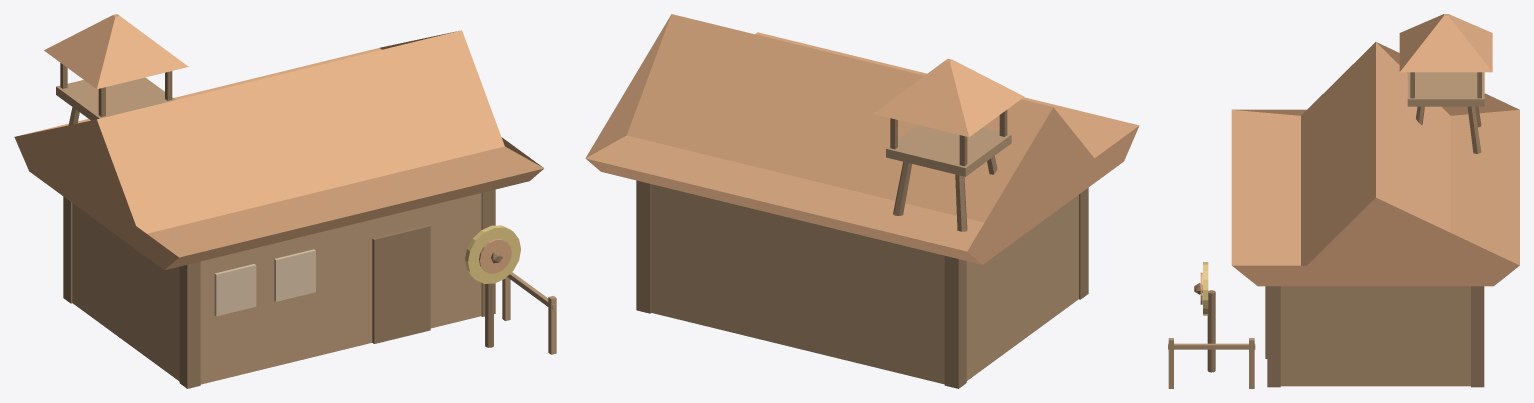
File: barracks.glb
The picture shows the model from 3 angles, left to right: view 1: azimuth 30°, elevation 25°; view 2: azimuth 150°, elevation 25°; view 3: azimuth 270°, elevation 25°; orthographic projection. The views are drawn at different scales.
Parts seen in each view (by area): view 1: roof, body, door, troof, tplatform, corner_-1_1, window_2, window_1, target, corner_-1_-1, target_mid, corner_1_1 (+2 smaller); view 2: roof, body, troof, tplatform, corner_-1_-1, corner_1_-1, corner_-1_1, tleg_-1_-1, tleg_1_-1; view 3: roof, body, troof, tplatform, corner_1_1, corner_1_-1, target_post, yard_rail, tleg_1_-1, target.
Part boxes in pixels (bbox=[...]): roof: bbox=[14, 30, 543, 270]; body: bbox=[72, 193, 481, 384]; door: bbox=[372, 225, 430, 343]; troof: bbox=[44, 14, 188, 89]; tplatform: bbox=[56, 77, 175, 120]; corner_-1_1: bbox=[179, 261, 200, 388]; window_2: bbox=[214, 264, 256, 316]; window_1: bbox=[274, 249, 315, 301]; target: bbox=[465, 225, 520, 283]; corner_-1_-1: bbox=[63, 196, 72, 303]; target_mid: bbox=[479, 239, 511, 273]; corner_1_1: bbox=[481, 189, 495, 316]; roof: bbox=[585, 14, 1139, 264]; body: bbox=[651, 184, 1078, 384]; troof: bbox=[873, 58, 1024, 137]; tplatform: bbox=[886, 125, 1011, 176]; corner_-1_-1: bbox=[944, 256, 966, 388]; corner_1_-1: bbox=[636, 180, 651, 313]; corner_-1_1: bbox=[1079, 187, 1088, 299]; tleg_-1_-1: bbox=[955, 174, 967, 231]; tleg_1_-1: bbox=[893, 162, 912, 215]; roof: bbox=[1231, 42, 1519, 286]; body: bbox=[1280, 286, 1470, 386]; troof: bbox=[1399, 14, 1492, 72]; tplatform: bbox=[1407, 72, 1484, 106]; corner_1_1: bbox=[1267, 286, 1280, 387]; corner_1_-1: bbox=[1471, 286, 1484, 387]; target_post: bbox=[1207, 290, 1215, 372]; yard_rail: bbox=[1168, 343, 1255, 349]; tleg_1_-1: bbox=[1467, 106, 1481, 153]; target: bbox=[1203, 262, 1208, 315].
Size of the model in its own units: 5.26 by 4 by 5.02.
